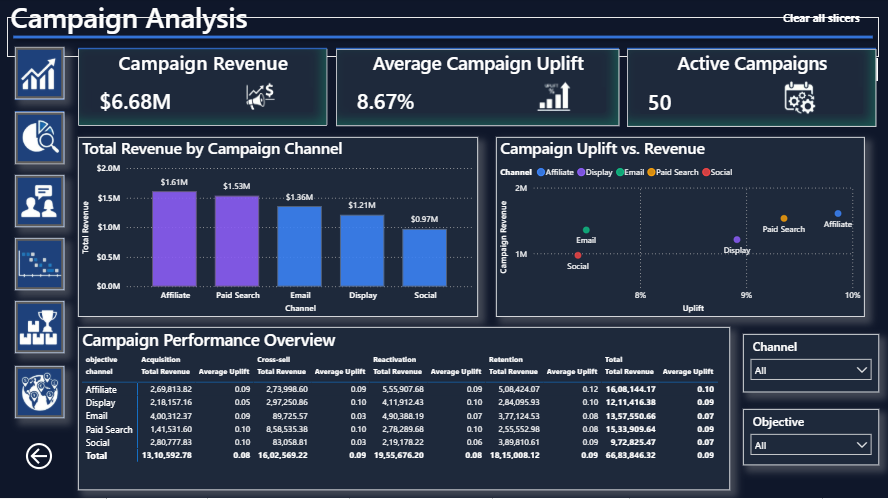

This screenshot's page, from the dashboard's own definition file:
{"tool":"powerbi","page":{"name":"Campaign Analysis","canvas":[1280,720],"ordinal":2},"visuals":[{"type":"textbox","title":"Campaign Analysis","box":[10.1,0,365.8,57.6],"z":0},{"type":"shape","box":[10.1,27.4,1255.7,57.6],"z":1000},{"type":"cardVisual","title":"Campaign Revenue","fields":{"Data":["Sum(transactions.gross_revenue)"]},"box":[112.3,72,358.6,112.3],"z":2000},{"type":"shape","box":[112.3,56.2,358.6,33.1],"z":3000},{"type":"cardVisual","title":"Average Campaign Uplift","fields":{"Data":["campaigns.Average Uplift"]},"box":[483.8,73.4,407.5,110.9],"z":4000},{"type":"cardVisual","title":"Active Campaigns","fields":{"Data":["campaigns.Active Campaigns"]},"box":[902.9,73.4,358.6,112.3],"z":5000},{"type":"shape","box":[483.8,56.2,407.5,33.1],"z":6000},{"type":"shape","box":[902.9,56.2,358.6,33.1],"z":7000},{"type":"clusteredColumnChart","title":"Total Revenue by Campaign Channel","fields":{"Category":["campaigns.channel"],"Y":["campaigns.Total Revenue"]},"box":[112.3,200.2,576,259.2],"z":8000},{"type":"scatterChart","title":"Campaign Uplift vs. Revenue","fields":{"Series":["campaigns.channel"],"X":["campaigns.Average Uplift"],"Y":["Sum(transactions.gross_revenue)"]},"box":[714.2,200.2,531.4,259.2],"z":9000},{"type":"pivotTable","title":"Campaign Performance Overview","fields":{"Columns":["campaigns.objective"],"Rows":["campaigns.channel"],"Values":["campaigns.Total Revenue","campaigns.Average Uplift"]},"box":[112.3,473.8,938.9,234.7],"z":10000},{"type":"slicer","fields":{"Values":["campaigns.channel"]},"box":[1069.9,483.8,195.8,83.5],"z":11000},{"type":"slicer","fields":{"Values":["campaigns.objective"]},"box":[1069.9,591.8,195.8,80.6],"z":12000},{"type":"shape","box":[21.6,72,70.6,74.9],"z":13000},{"type":"shape","box":[21.6,162.7,70.6,74.9],"z":14000},{"type":"shape","box":[21.6,254.9,70.6,74.9],"z":15000},{"type":"shape","box":[21.6,345.6,70.6,74.9],"z":16000},{"type":"shape","box":[21.6,436.3,70.6,74.9],"z":17000},{"type":"shape","box":[21.6,529.9,70.6,74.9],"z":18000},{"type":"image","box":[21.6,72,70.6,73.4],"z":19000},{"type":"image","box":[21.6,164.2,70.6,73.4],"z":20000},{"type":"image","box":[21.6,254.9,70.6,73.4],"z":21000},{"type":"image","box":[21.6,347,70.6,73.4],"z":22000},{"type":"image","box":[21.6,437.8,70.6,73.4],"z":23000},{"type":"image","box":[21.6,529.9,70.6,73.4],"z":24000},{"type":"actionButton","box":[21.6,70.6,70.6,74.9],"z":25000},{"type":"actionButton","box":[21.6,164.2,70.6,74.9],"z":26000},{"type":"actionButton","box":[21.6,254.9,70.6,74.9],"z":27000},{"type":"actionButton","box":[21.6,345.6,70.6,74.9],"z":28000},{"type":"actionButton","box":[21.6,436.3,70.6,74.9],"z":29000},{"type":"actionButton","box":[21.6,529.9,70.6,74.9],"z":30000},{"type":"actionButton","box":[31.7,632.2,49,54.7],"z":31000},{"type":"image","box":[344.2,119.5,63.4,54.7],"z":32000},{"type":"image","box":[767.5,115.2,60.5,63.4],"z":33000},{"type":"image","box":[1117.4,113.8,66.2,64.8],"z":34000},{"type":"actionButton","box":[1105.9,7.2,154.1,41.8],"z":35000}]}

Visuals, with their boxes in screenshot pixels (x1, y1, x2, y2), scaled from the page's 1280x720 canvas onto the 888x499 screenshot:
"Campaign Analysis" textbox: [7,0,261,40]
shape: [7,19,878,59]
"Campaign Revenue" cardVisual: [78,50,327,128]
shape: [78,39,327,62]
"Average Campaign Uplift" cardVisual: [336,51,618,128]
"Active Campaigns" cardVisual: [626,51,875,129]
shape: [336,39,618,62]
shape: [626,39,875,62]
"Total Revenue by Campaign Channel" clusteredColumnChart: [78,139,478,318]
"Campaign Uplift vs. Revenue" scatterChart: [495,139,864,318]
"Campaign Performance Overview" pivotTable: [78,328,729,491]
slicer - campaigns.channel: [742,335,878,393]
slicer - campaigns.objective: [742,410,878,466]
shape: [15,50,64,102]
shape: [15,113,64,165]
shape: [15,177,64,229]
shape: [15,240,64,291]
shape: [15,302,64,354]
shape: [15,367,64,419]
image: [15,50,64,101]
image: [15,114,64,165]
image: [15,177,64,228]
image: [15,240,64,291]
image: [15,303,64,354]
image: [15,367,64,418]
actionButton: [15,49,64,101]
actionButton: [15,114,64,166]
actionButton: [15,177,64,229]
actionButton: [15,240,64,291]
actionButton: [15,302,64,354]
actionButton: [15,367,64,419]
actionButton: [22,438,56,476]
image: [239,83,283,121]
image: [532,80,574,124]
image: [775,79,821,124]
actionButton: [767,5,874,34]
